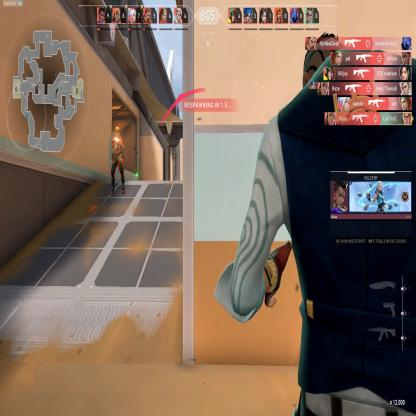enemy: (109, 123, 126, 198)
